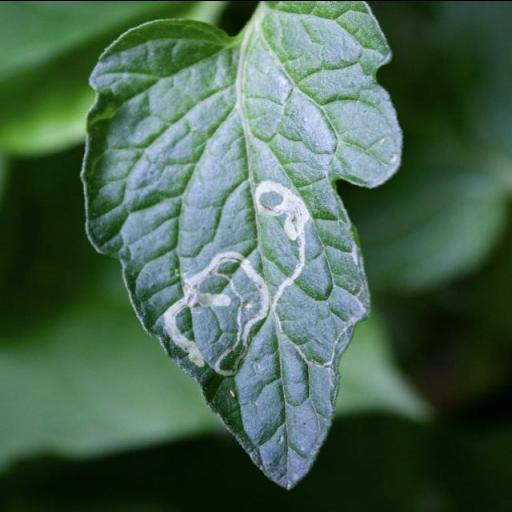Leaf Miner: (78, 0, 400, 489)
